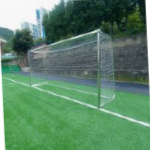goals: (25, 27, 119, 109)
